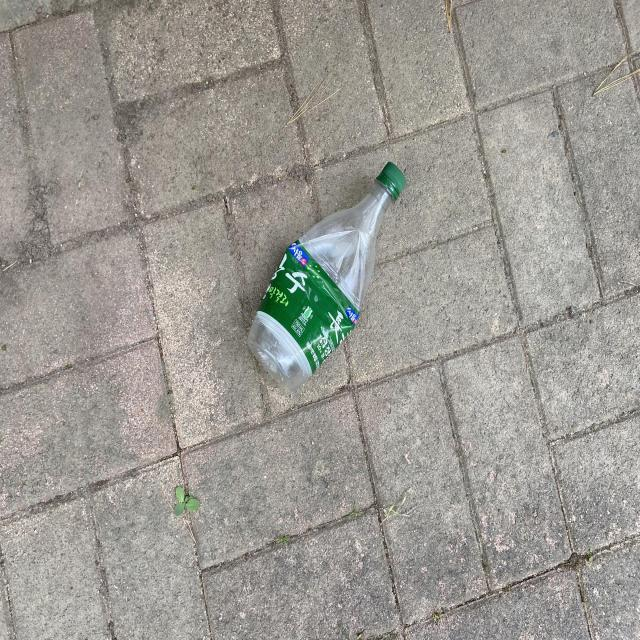plastic: (247, 161, 406, 391)
